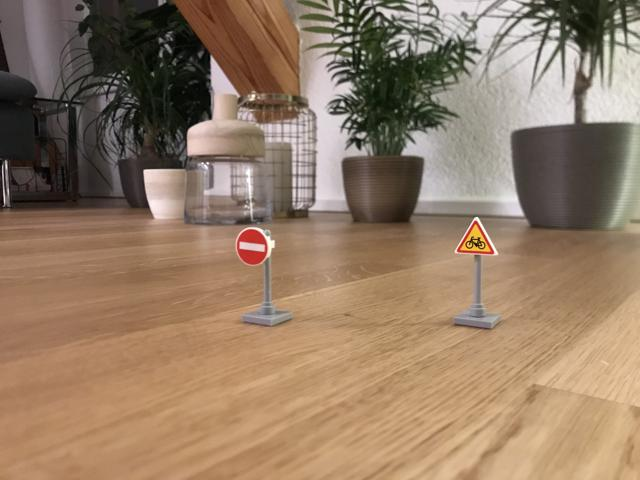radfahrer: (453, 217, 500, 256)
verbot der einfahrt: (236, 227, 271, 267)
